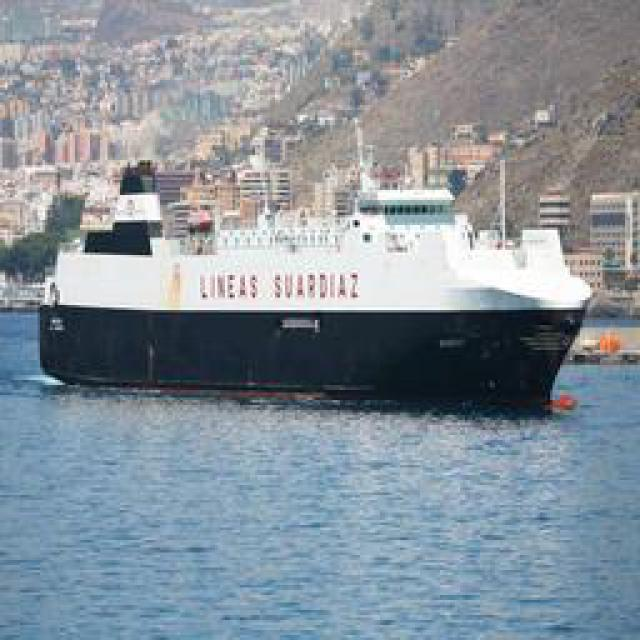Ship: (36, 99, 596, 409)
